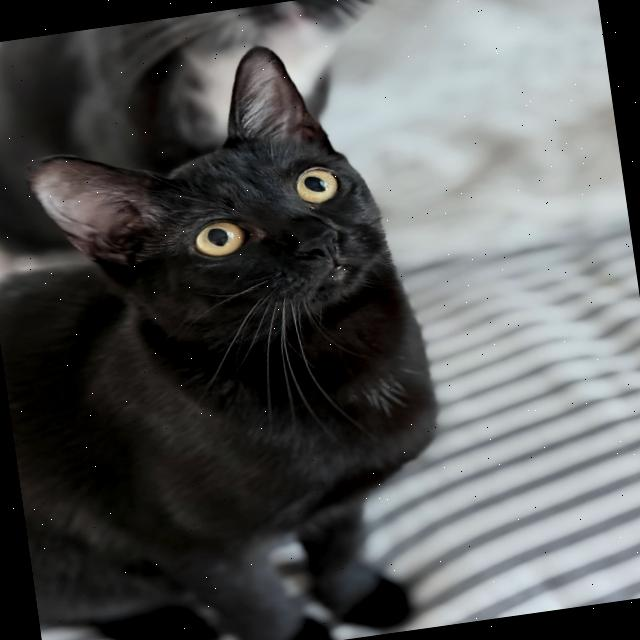bombay_cat: (8, 24, 424, 410)
